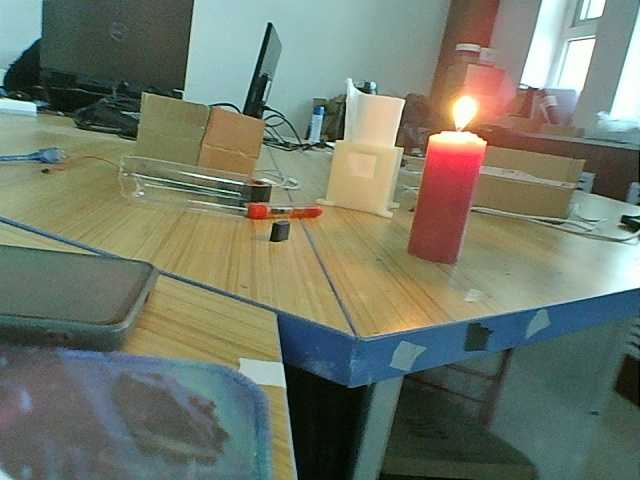candle: (412, 123, 485, 268)
fire: (434, 85, 489, 151)
